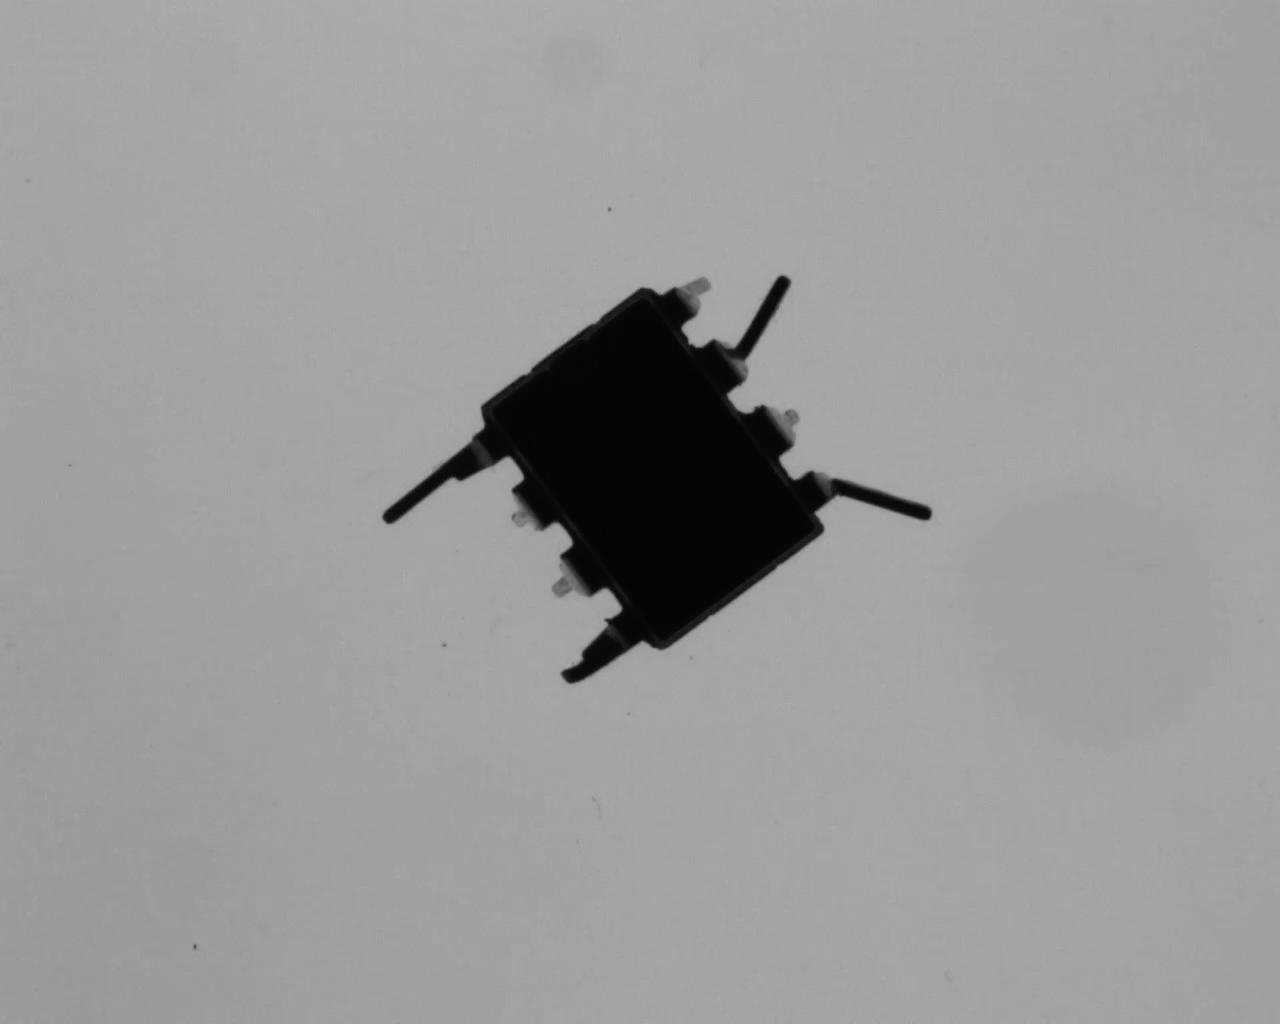Leg: (693, 270, 801, 396), (379, 423, 506, 527), (793, 467, 940, 527), (556, 610, 650, 689), (542, 545, 607, 600), (656, 270, 716, 328), (508, 474, 559, 538), (746, 401, 806, 452)
